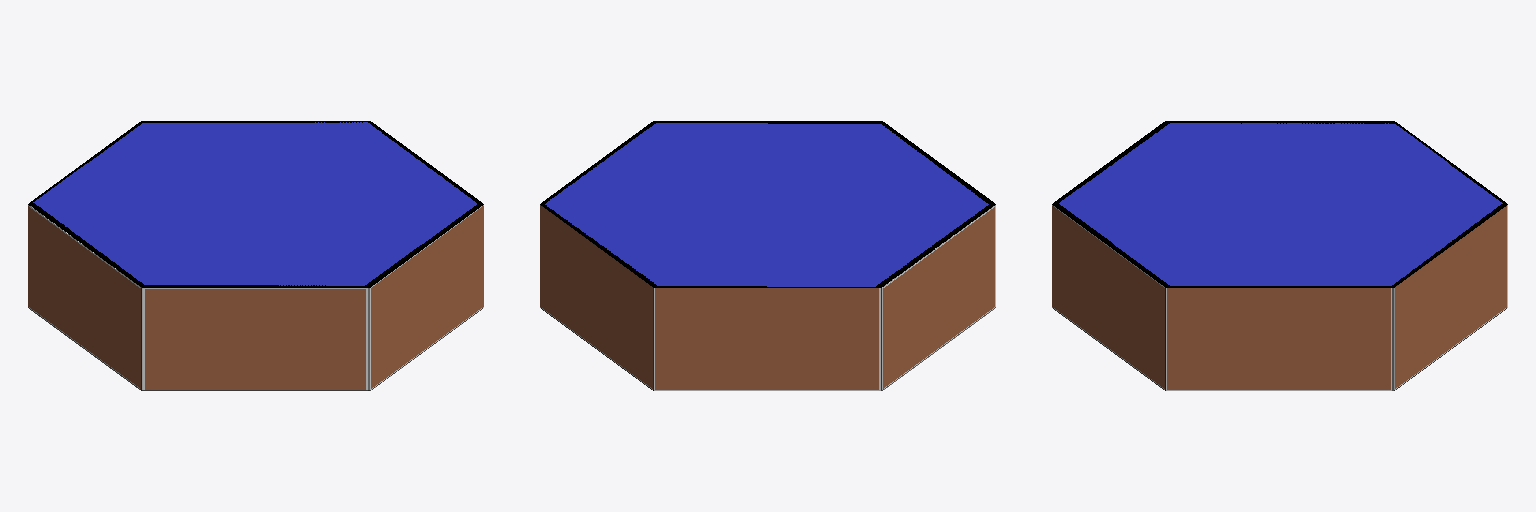
The picture shows the model from 3 angles: view 1: azimuth 30°, elevation 25°; view 2: azimuth 150°, elevation 25°; view 3: azimuth 270°, elevation 25°; orthographic projection.
Visible parts, largest first — view 1: PlainHex_Plane; view 2: PlainHex_Plane; view 3: PlainHex_Plane.
Part boxes in pixels (left/top/right/bottom): PlainHex_Plane: left=28, top=121, right=483, bottom=390; PlainHex_Plane: left=540, top=121, right=995, bottom=390; PlainHex_Plane: left=1052, top=121, right=1507, bottom=390.
Bounding box in the file's own units: 1.73 × 0.5 × 2.
Materials: 1 (1 with a texture image).